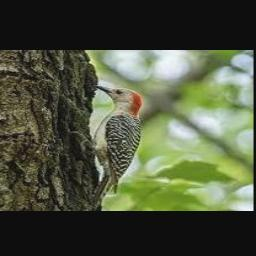Woodpecker: (68, 85, 142, 205)
